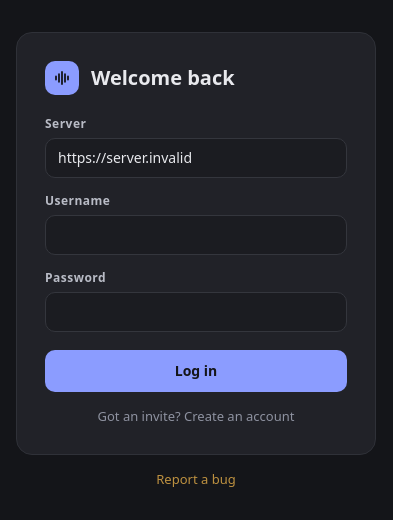
Login › expired goes back to the password step with the message and an empty password
This screenshot has width=393, height=520.
Type "alex" into the field labelled "Username". click: point(196, 234)
box: top-left (45, 214), bottom-right (347, 254)
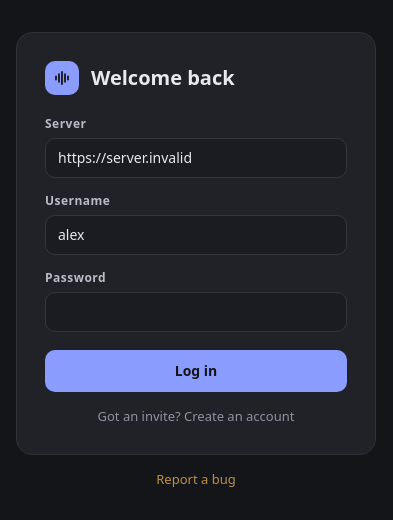
Type "pw-for-alex" into the password field labelled "Password". click: point(196, 312)
box: top-left (45, 292), bottom-right (347, 332)
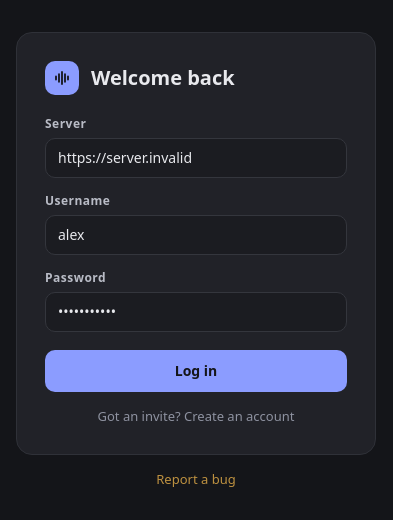
Submit the form
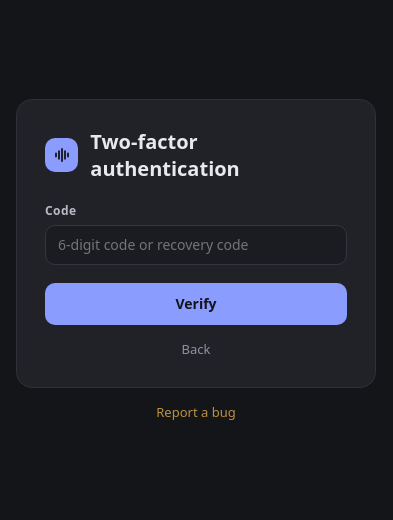
Type "123456" into the field labelled "Code". click: point(196, 244)
box: top-left (45, 224), bottom-right (347, 264)
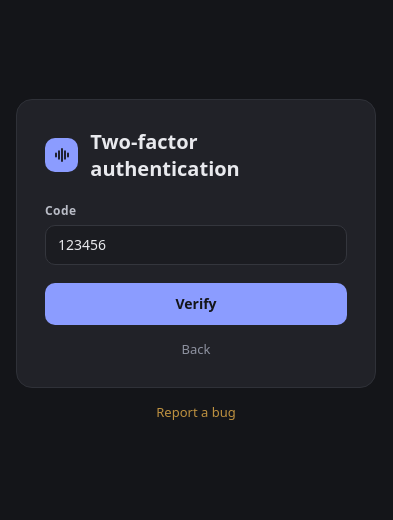
Submit the form, box top-left (16, 98), bottom-right (376, 388)
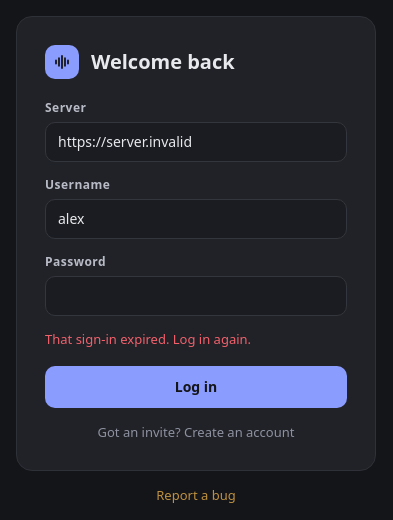
Expected: the message "That sign-in expired. Log in again." is shown, top-left (45, 330), bottom-right (251, 348)
Expected: the password field labelled "Password" is empty, top-left (45, 276), bottom-right (347, 316)
